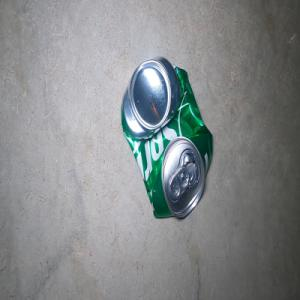SodaCan: (120, 55, 212, 218)
